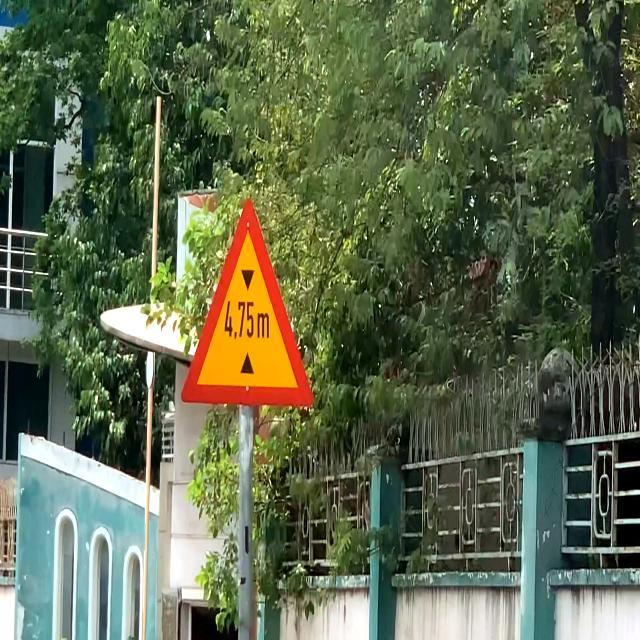W-239b: (182, 198, 314, 407)
